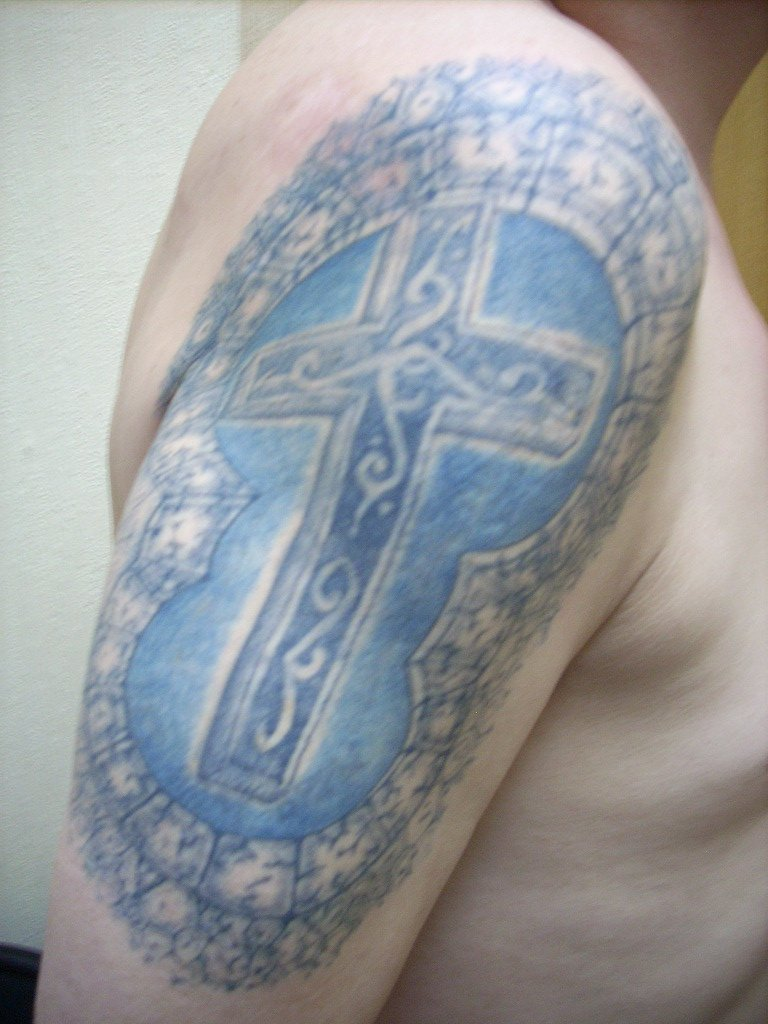tatu9_krest: (186, 177, 620, 817)
